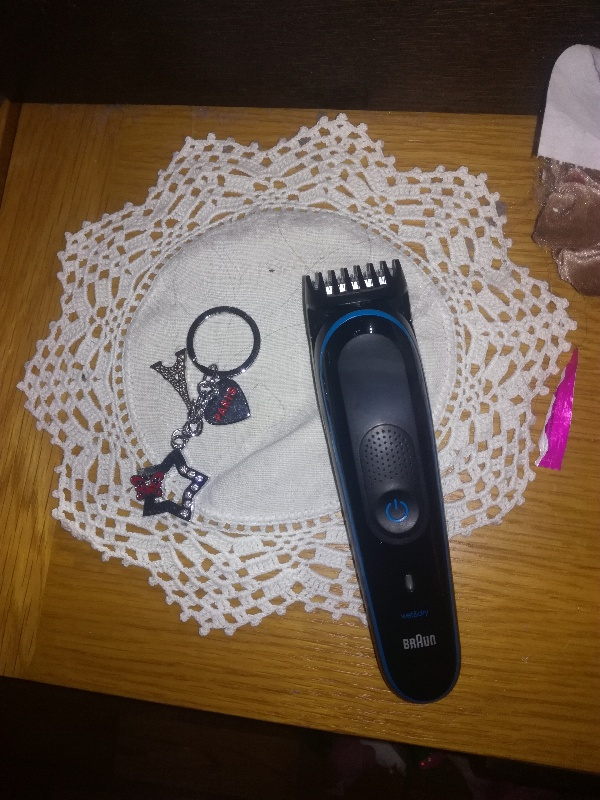beard trimmer: (300, 259, 464, 705)
